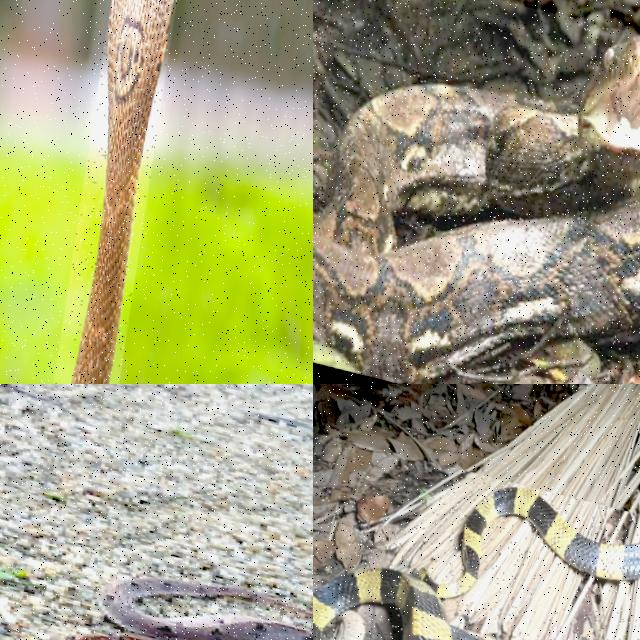Bungarus fasciatus: (313, 489, 639, 639)
Calloselasma rhodostoma: (65, 577, 312, 639)
Malayopython reticulatus: (313, 38, 639, 383)
Naja kaouthia: (72, 0, 173, 383)
snake: (313, 38, 639, 383), (313, 489, 639, 639), (72, 0, 173, 383), (65, 577, 312, 639)
